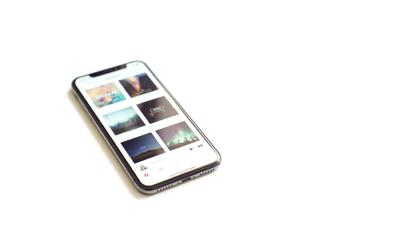Mobile Phone: (70, 59, 222, 195)
